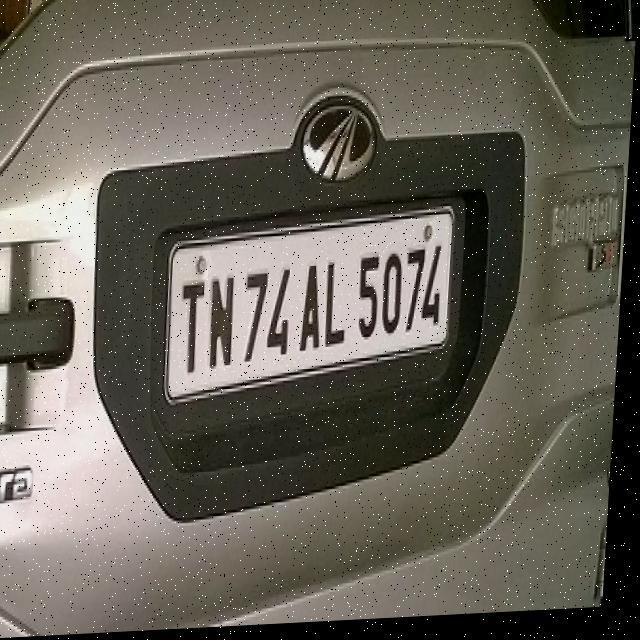plate: (166, 212, 458, 404)
